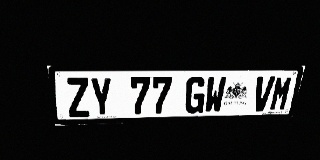7: (129, 77, 151, 115), (150, 77, 172, 115)
G: (184, 77, 207, 114)
M: (269, 76, 294, 111)
V: (251, 76, 275, 111)
W: (203, 76, 227, 113)
Y: (89, 77, 113, 117)
Z: (65, 77, 91, 117)
